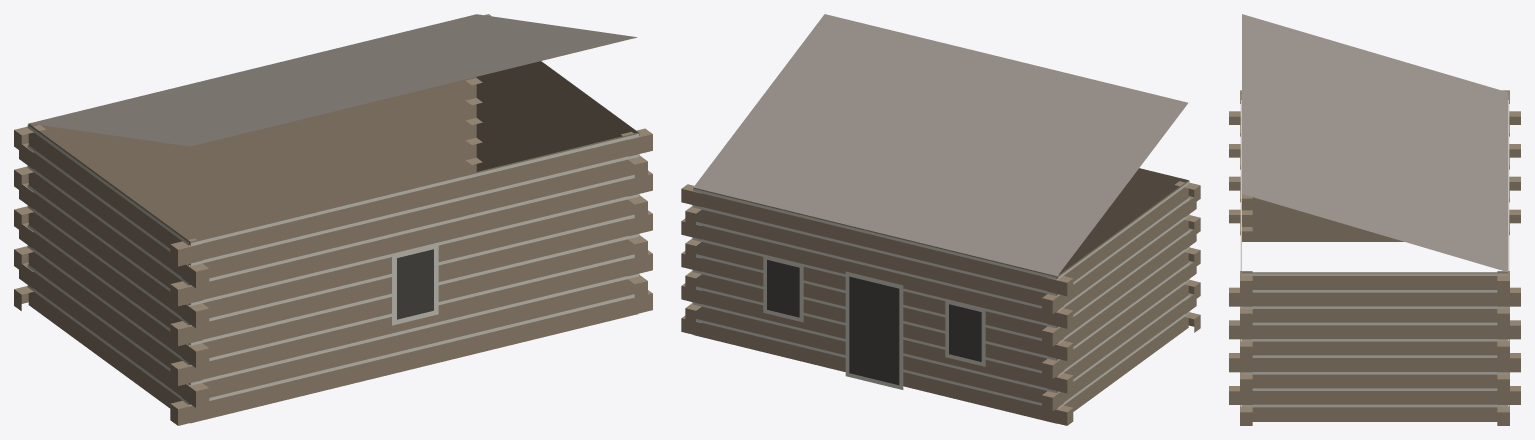
File: fort_dearborn_artillery_house__log_1816.glb
3 renders of one model, left to right at view 1: azimuth 30°, elevation 25°; view 2: azimuth 150°, elevation 25°; view 3: azimuth 270°, elevation 25°, orthographic. The views are drawn at different scales.
Visible parts, largest first — view 1: fort_dearborn_artillery_house__log_1816; view 2: fort_dearborn_artillery_house__log_1816; view 3: fort_dearborn_artillery_house__log_1816.
Boxes of the visible parts, bbox=[...] form: fort_dearborn_artillery_house__log_1816: bbox=[14, 14, 652, 425]; fort_dearborn_artillery_house__log_1816: bbox=[681, 14, 1200, 425]; fort_dearborn_artillery_house__log_1816: bbox=[1229, 14, 1520, 425].
Bounding box in the file's own units: 8.48 × 4.79 × 5.48.
